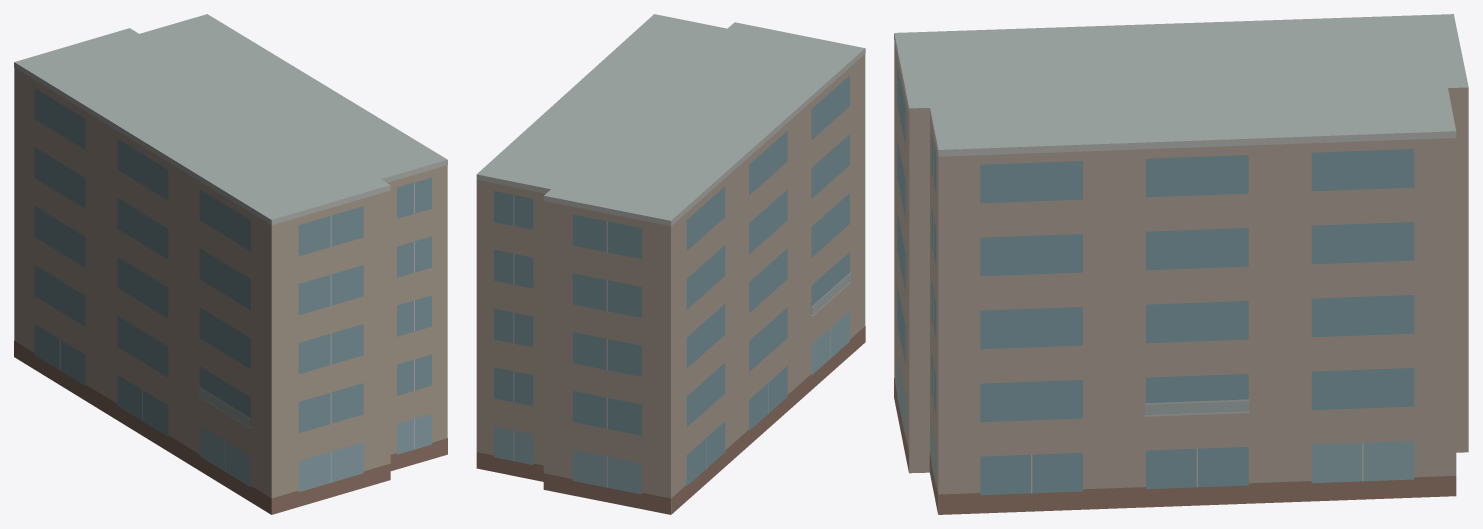
Rendered from survey-upis-32655272.glb.
The picture shows the model from 3 angles, left to right: view 1: azimuth 30°, elevation 25°; view 2: azimuth 150°, elevation 25°; view 3: azimuth 270°, elevation 25°; orthographic projection. The views are drawn at different scales.
Parts seen in each view (by area): view 1: survey-upis-32655272.tmp; view 2: survey-upis-32655272.tmp; view 3: survey-upis-32655272.tmp.
Part boxes in pixels (bbox=[...]): survey-upis-32655272.tmp: bbox=[14, 14, 447, 514]; survey-upis-32655272.tmp: bbox=[476, 14, 865, 514]; survey-upis-32655272.tmp: bbox=[894, 14, 1468, 514].
Bounding box in the file's own units: 10.64 × 13.3 × 18.99.
